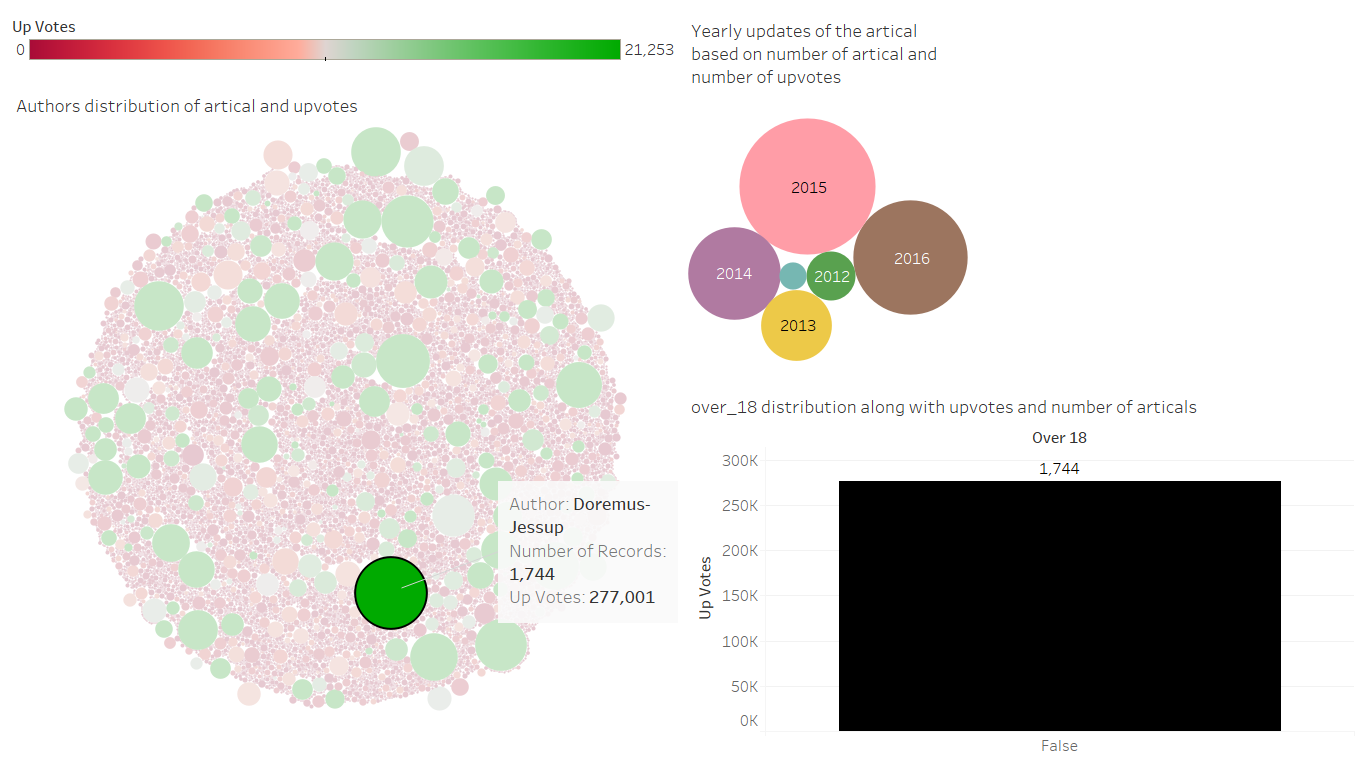

This screenshot's page, from the dashboard's own definition file:
{"tool":"tableau","page":{"name":"Dashboard 1","canvas":[1366,768],"ordinal":0},"visuals":[{"type":"legend","title":"Sheet 1","param":"[federated.1ng5zmb0twoplm18mtbw31p7slgy].[sum:up_votes:qk]","box":[8,8,675,75]},{"type":"worksheet","title":"Sheet 2","mark":"Circle","box":[683,8,675,376]},{"type":"worksheet","title":"Sheet 1","mark":"Circle","box":[8,83,675,677]},{"type":"worksheet","title":"Sheet 3","mark":"Bar","rows":["up_votes"],"cols":["over_18"],"box":[683,384,675,376]}]}

Visuals, with their boxes in screenshot pixels (x1, y1, x2, y2), scaled from the page's 1366x768 canvas onto the 1366x768 screenshot:
"Sheet 1" legend: locate(8, 8, 683, 83)
"Sheet 2" worksheet (Circle marks): locate(683, 8, 1358, 384)
"Sheet 1" worksheet (Circle marks): locate(8, 83, 683, 760)
"Sheet 3" worksheet (Bar marks): locate(683, 384, 1358, 760)
